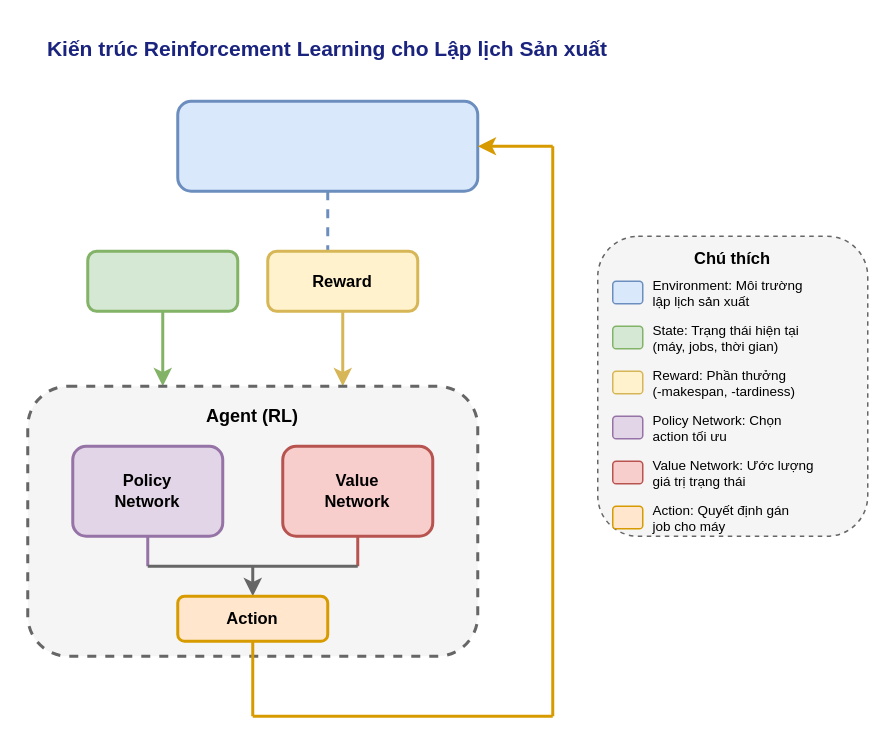
The diagram is 894 pixels wide and 744 high, and some of its shapes have lost their labels. Here are the shapes that lost their labels. From the top down, the centre of each, then its label:
At (x=327, y=145): "Environment (Scheduling)".
At (x=162, y=280): "State".
